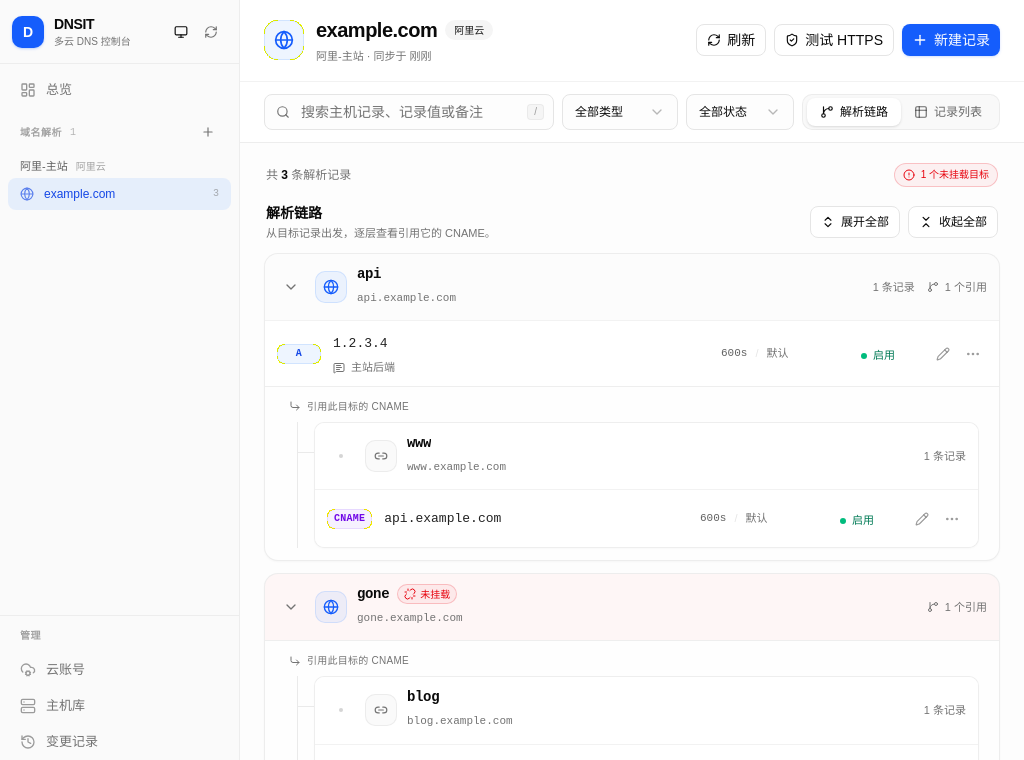
Test: web app › shows https results on the corresponding cname tree nodes
The image size is (1024, 760).
Expected: the button "www" is shown, [407,433,431,453]
Click the button "测试 HTTPS" at (834, 40), box [774,24,894,56]
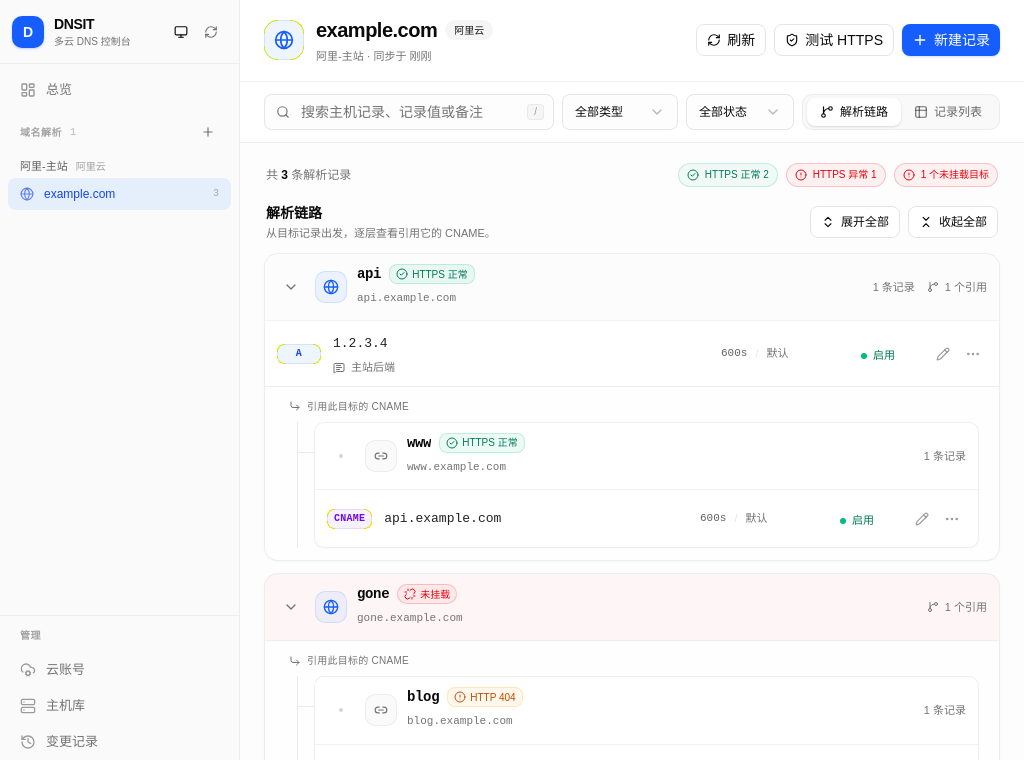
Result: the text "HTTPS 正常" is shown 2 times at [389,264,475,284]; [439,433,525,453]
Result: the text "HTTP 404" is shown at [447,687,523,707]
